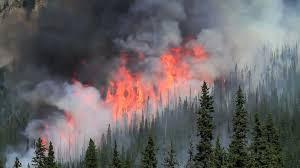fire: (102, 45, 201, 122)
yanwu: (13, 0, 299, 89), (13, 82, 102, 164)
